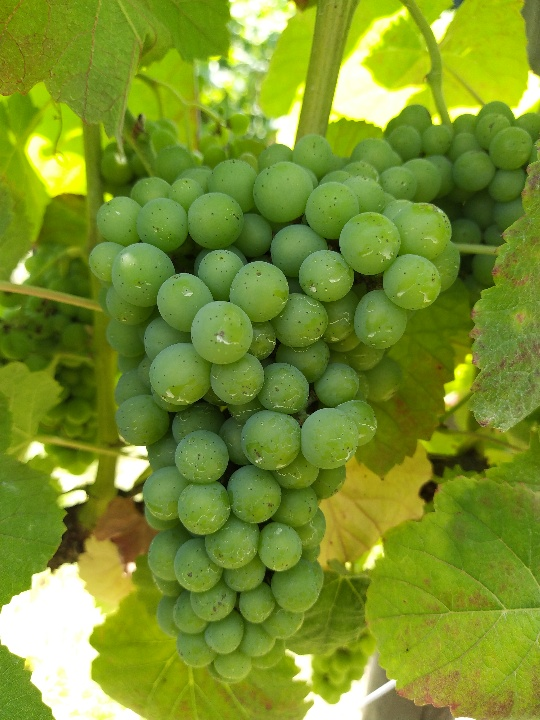grape: (90, 136, 470, 688)
